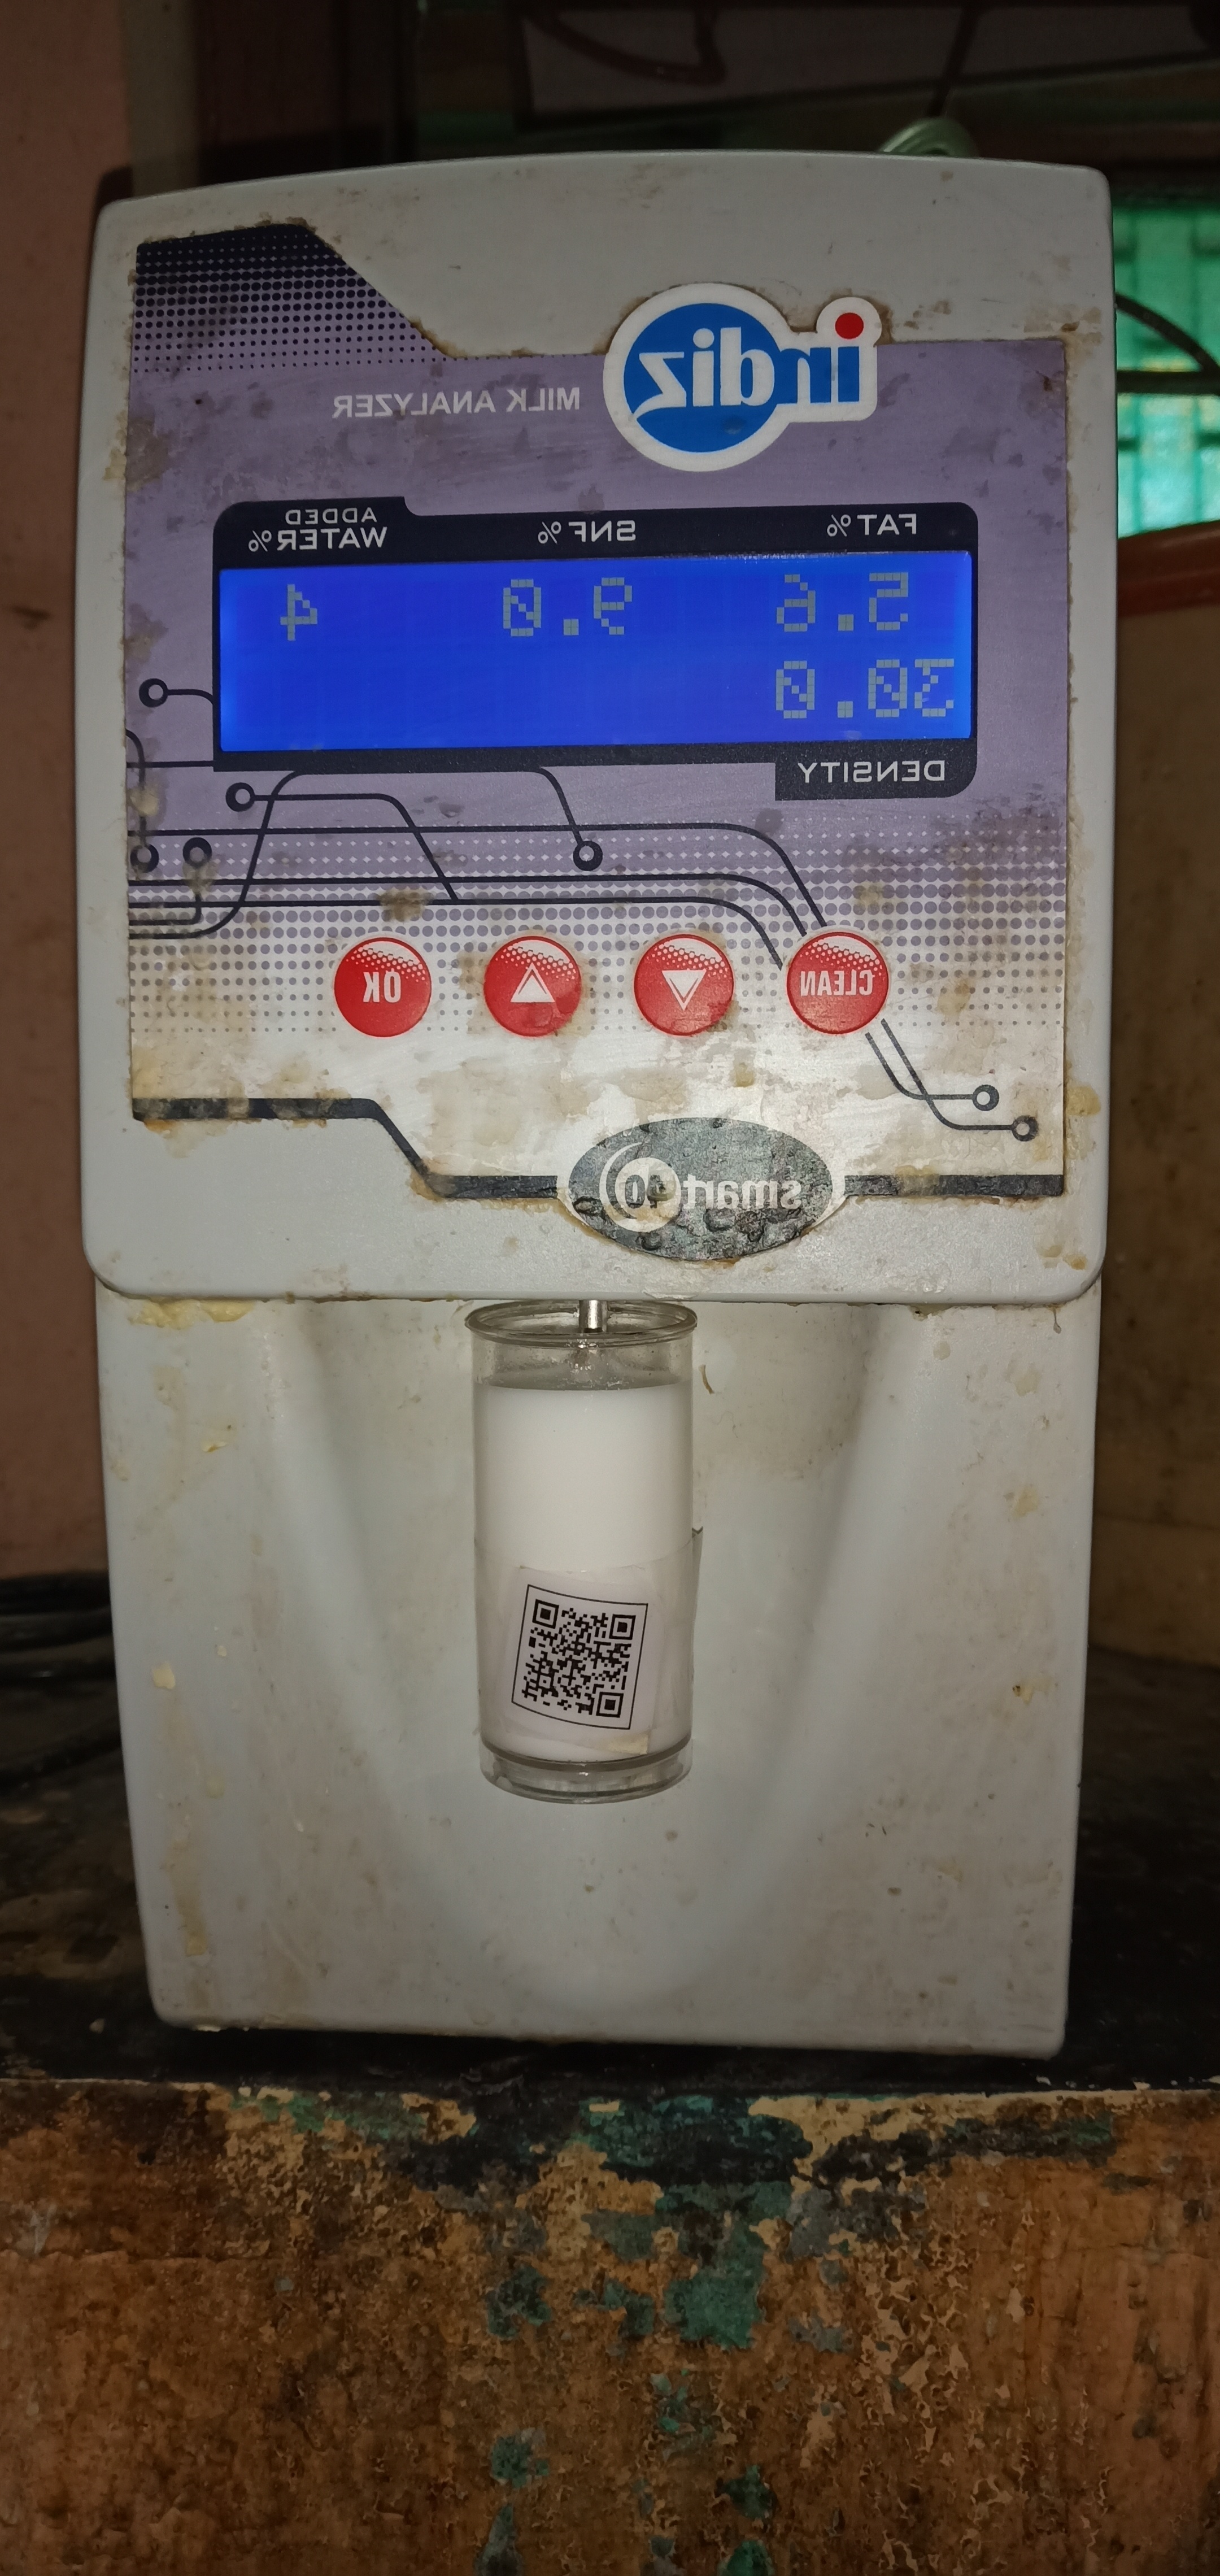lcd: (189, 488, 1020, 823)
qr: (507, 1571, 685, 1771)
